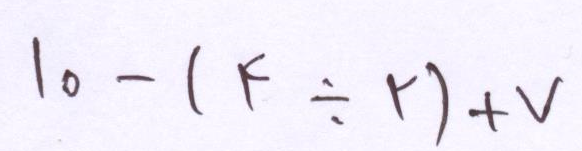character: (515, 76, 566, 121), (425, 61, 448, 145), (238, 52, 268, 109), (310, 78, 348, 122), (116, 74, 167, 106), (468, 91, 508, 131), (386, 73, 416, 119), (187, 45, 202, 118), (33, 37, 44, 96), (61, 69, 79, 95)
